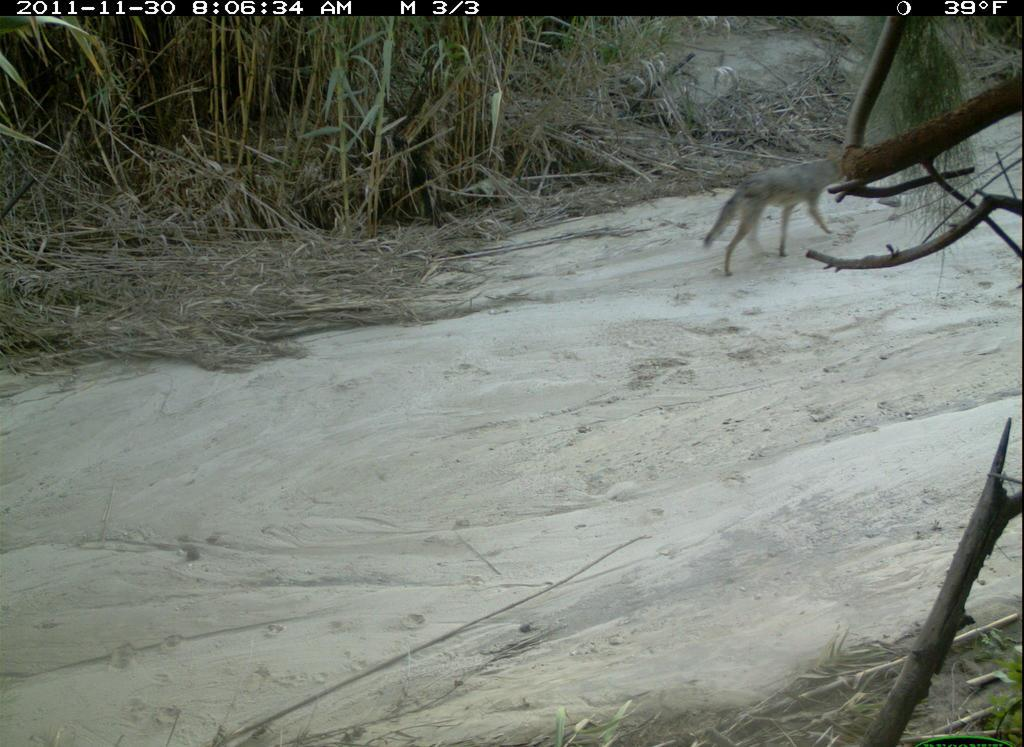coyote: (701, 140, 867, 285)
